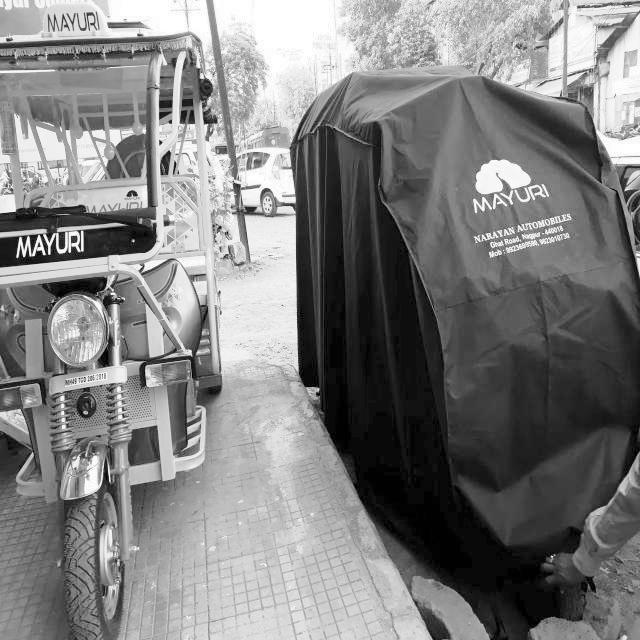Toto: (0, 26, 211, 640)
